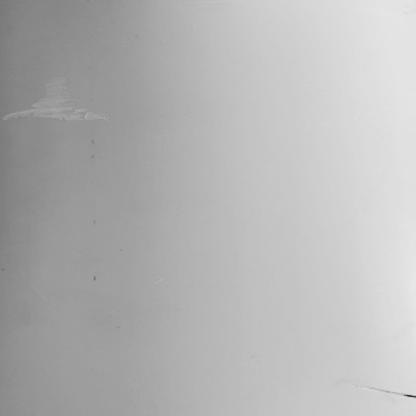sunshang: (1, 76, 113, 123)
